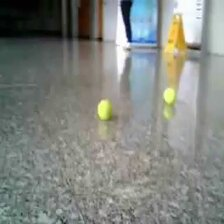tennis: (97, 99, 113, 120), (163, 88, 176, 104)
